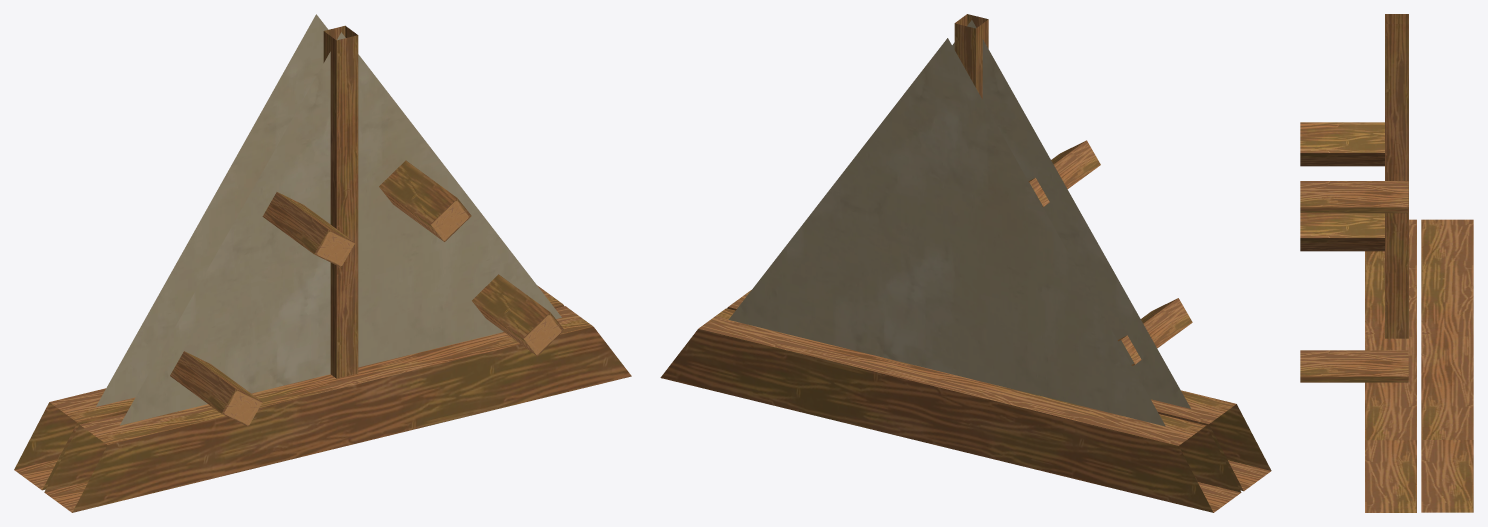
File: Roof_Front_Brick2.glb
3 views of the same model, side by side, from view 1: azimuth 30°, elevation 25°; view 2: azimuth 150°, elevation 25°; view 3: azimuth 270°, elevation 25° (orthographic). The views are drawn at different scales.
Parts seen in each view (by area): view 1: Roof_Front_Brick2; view 2: Roof_Front_Brick2; view 3: Roof_Front_Brick2.
Part boxes in pixels (left/top/right/bottom): Roof_Front_Brick2: left=14, top=14, right=631, bottom=512; Roof_Front_Brick2: left=660, top=14, right=1271, bottom=512; Roof_Front_Brick2: left=1300, top=14, right=1473, bottom=512.
Bounding box in the file's own units: 2.61 × 1.77 × 0.7512.
Materials: 2 (2 with a texture image).
